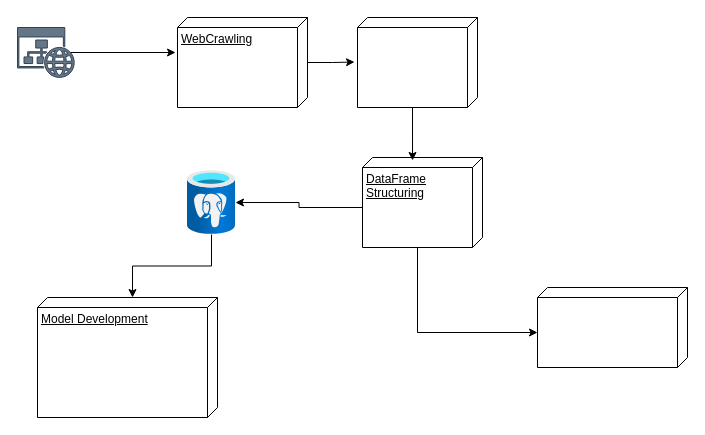
This 705x435 diagram has some shape labels left out. Each missing label, with the centre of its shape:
"Data Analysis" belongs at point 612,327.
"Preprocessing" belongs at point 417,62.
